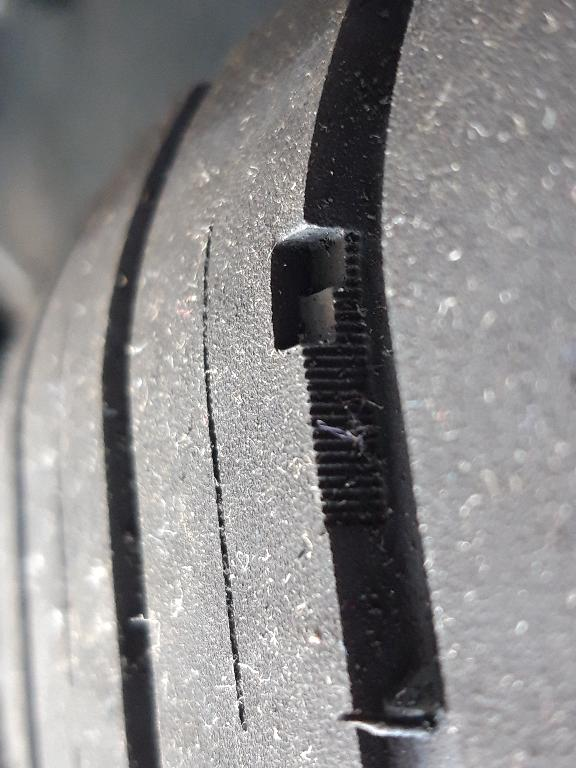temoin:50: (263, 218, 389, 413)
